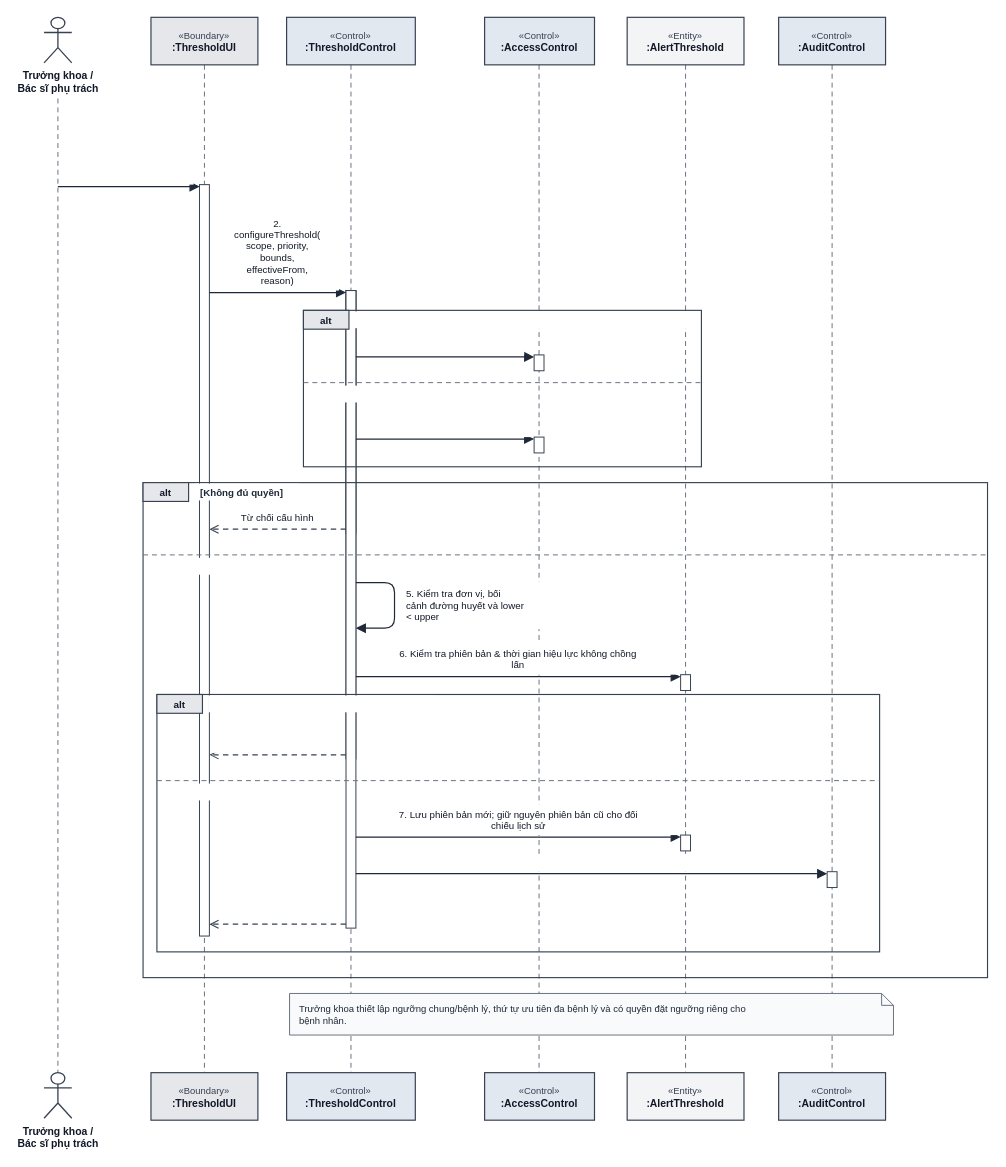
This 1006x1167 diagram has some shape labels left out. The shapes that lost their labels are listed below. From the top down, each one's centre as x and y in pixels, then its label:
At (x=127, y=155): "1. Nhập phạm vi, chỉ số, đơn vị, bối cảnh, ngưỡng & thứ tự ưu tiên".
At (x=521, y=319): "[Phạm vi GLOBAL / CONDITION hoặc đặt ưu tiên đa bệnh lý]".
At (x=445, y=346): "3. checkRole(HEAD_DOCTOR)".
At (x=406, y=393): "[Phạm vi PATIENT (cá nhân hóa)]".
At (x=444, y=421): "4. checkRole(HEAD_DOCTOR) hoặc DOCTOR được phân công ca".
At (x=191, y=565): "[Đúng quyền]".
At (x=321, y=703): "[Dữ liệu sai hoặc hiệu lực chồng lấn]".
At (x=277, y=737): "Báo lỗi; yêu cầu kiểm tra lại cấu hình".
At (x=194, y=791): "[Hợp lệ]".
At (x=591, y=862): "8. record(THRESHOLD_CONFIGURED, scope, reason)".
At (x=277, y=906): "Đã lưu cấu hình ngưỡng thành công".
